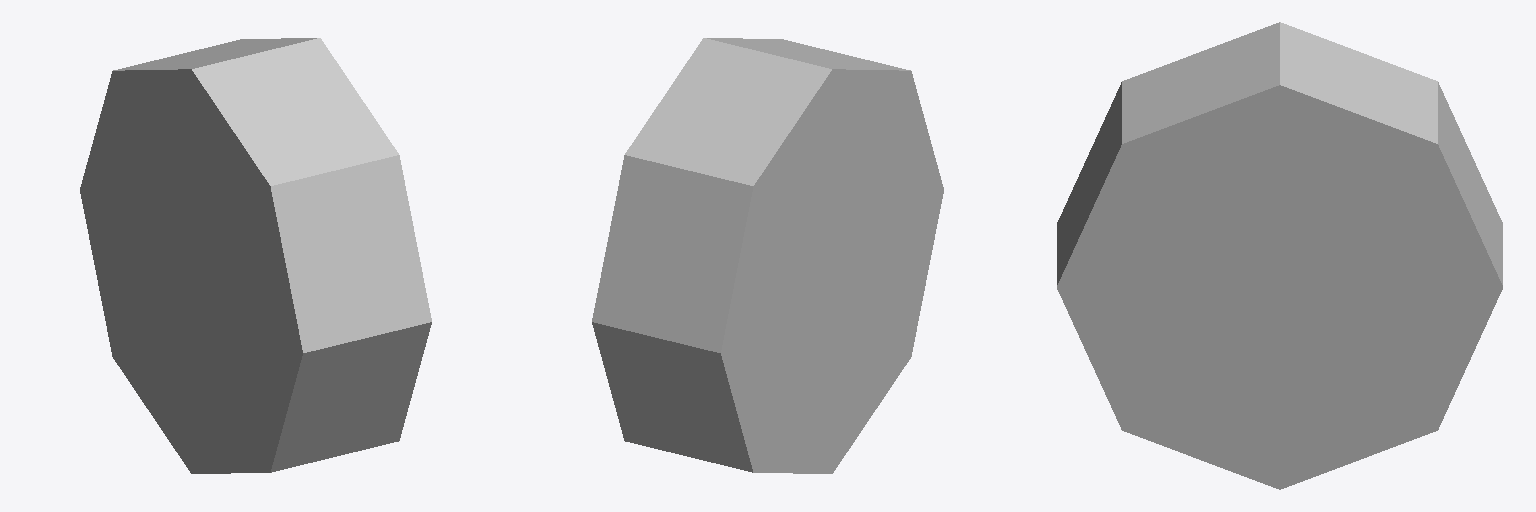
The model's file is car_wheel.obj.
3 views of the same model, side by side, from view 1: azimuth 30°, elevation 25°; view 2: azimuth 150°, elevation 25°; view 3: azimuth 270°, elevation 25° (orthographic).
Size of the model in its own units: 0.2 by 0.6 by 0.6.